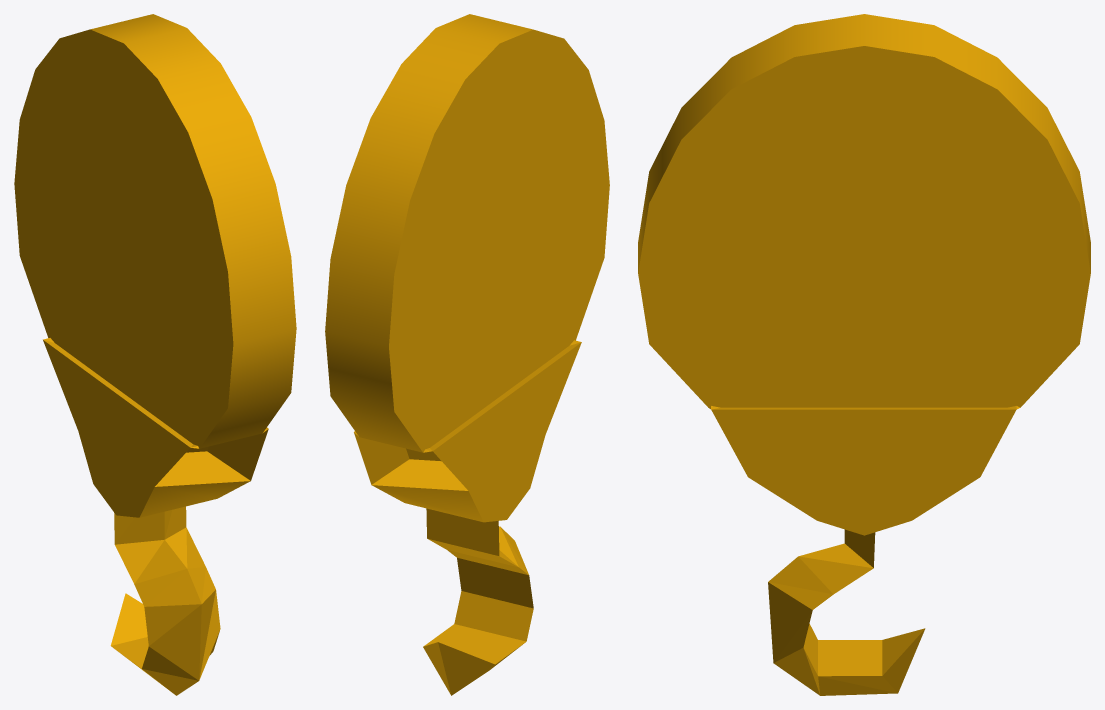
Rendered from Hook_Group.fbx.
The picture shows the model from 3 angles, left to right: view 1: azimuth 30°, elevation 25°; view 2: azimuth 150°, elevation 25°; view 3: azimuth 270°, elevation 25°; orthographic projection. The views are drawn at different scales.
Parts seen in each view (by area): view 1: Hanger, Hook; view 2: Hanger, Hook; view 3: Hanger, Hook.
Boxes of the visible parts, x1,y1,x2,y2 form: Hanger: (14,14,296,517); Hook: (110,506,220,695); Hanger: (325,14,609,522); Hook: (423,508,533,695); Hanger: (638,14,1090,535); Hook: (768,529,925,695).
Bounding box in the file's own units: 56.14 × 442 × 272.
